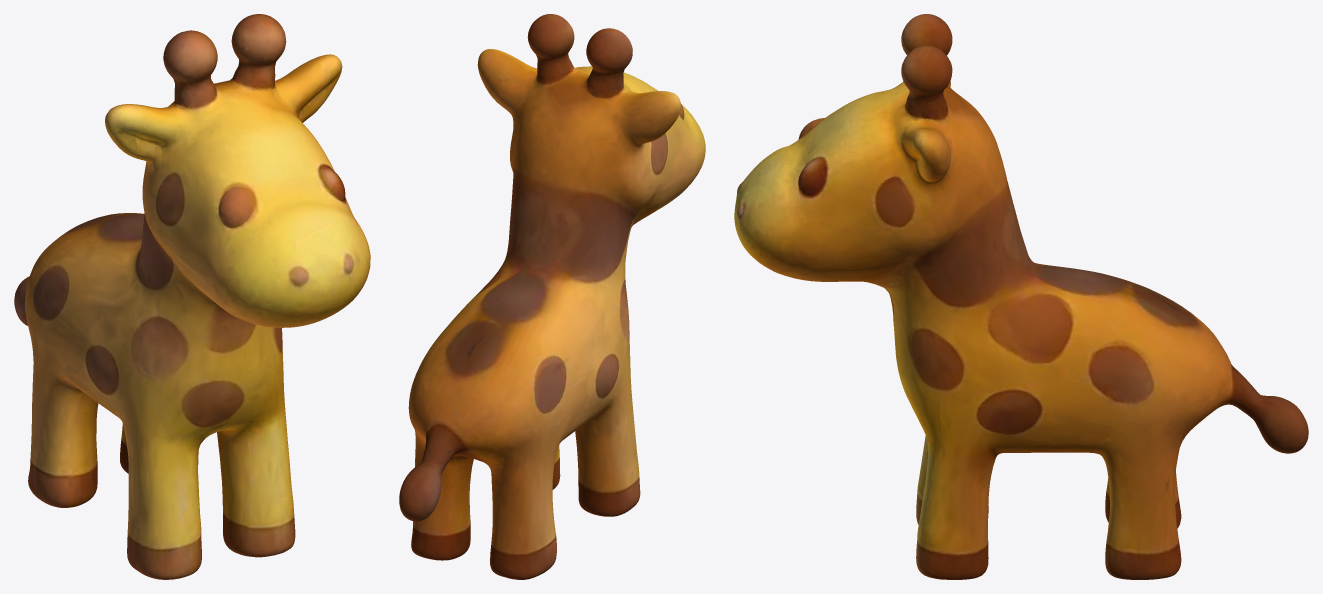
The model's file is giraffe_pbr.glb.
The picture shows the model from 3 angles, left to right: view 1: azimuth 30°, elevation 25°; view 2: azimuth 150°, elevation 25°; view 3: azimuth 270°, elevation 25°; orthographic projection. The views are drawn at different scales.
Parts seen in each view (by area): view 1: model.008; view 2: model.008; view 3: model.008.
Part boxes in pixels (<box>): model.008: <box>14,14,370,579</box>; model.008: <box>399,14,705,579</box>; model.008: <box>734,14,1308,579</box>.
Bounding box in the file's own units: 0.8171 × 1.81 × 1.82.
1 material, 1 textured.
